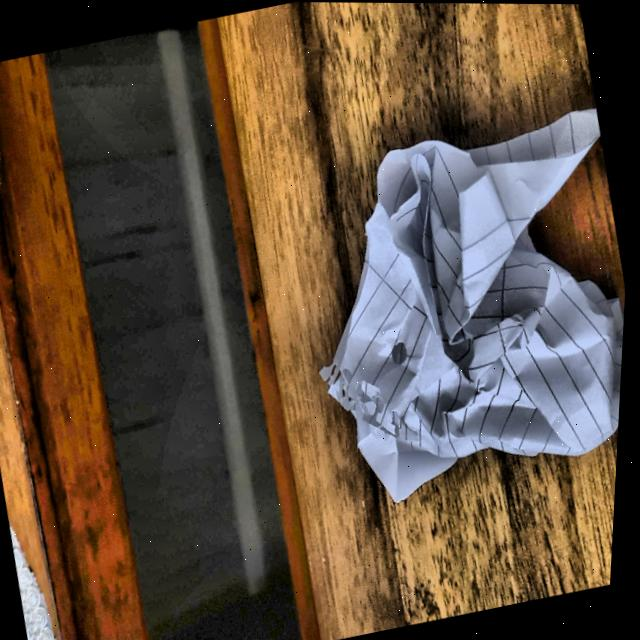paper: (273, 98, 636, 522)
